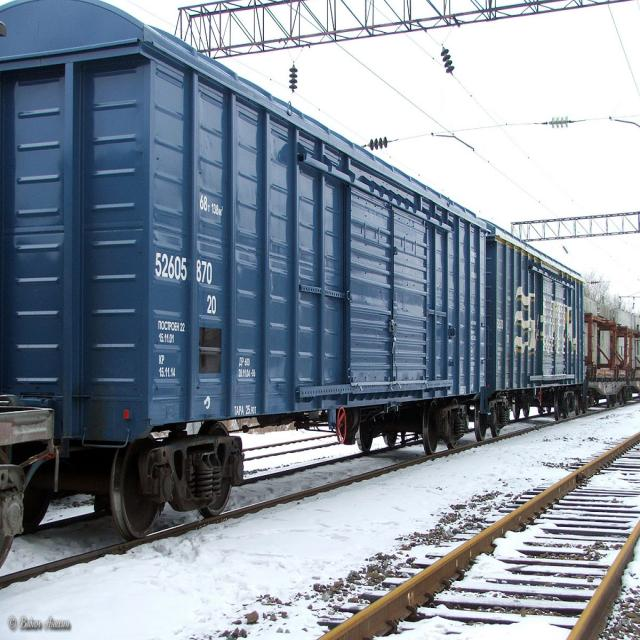boxcar: (0, 0, 488, 546), (486, 208, 590, 439)
flatcar: (586, 379, 628, 409)
